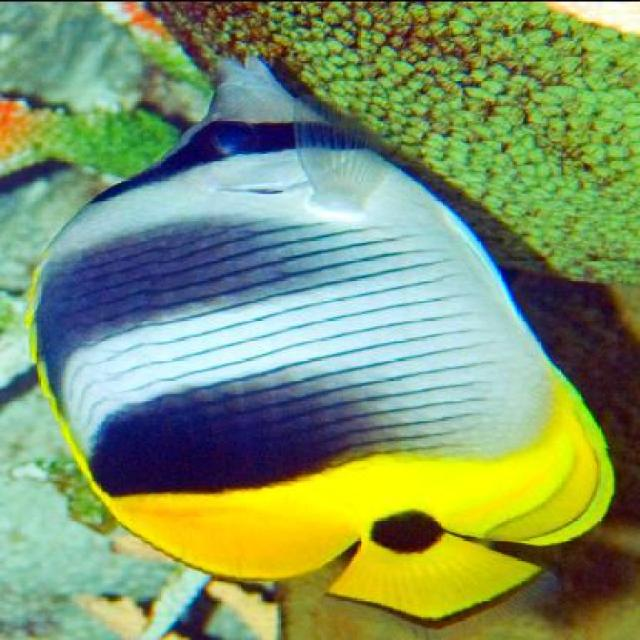ButterflyFish: (30, 62, 613, 610)
